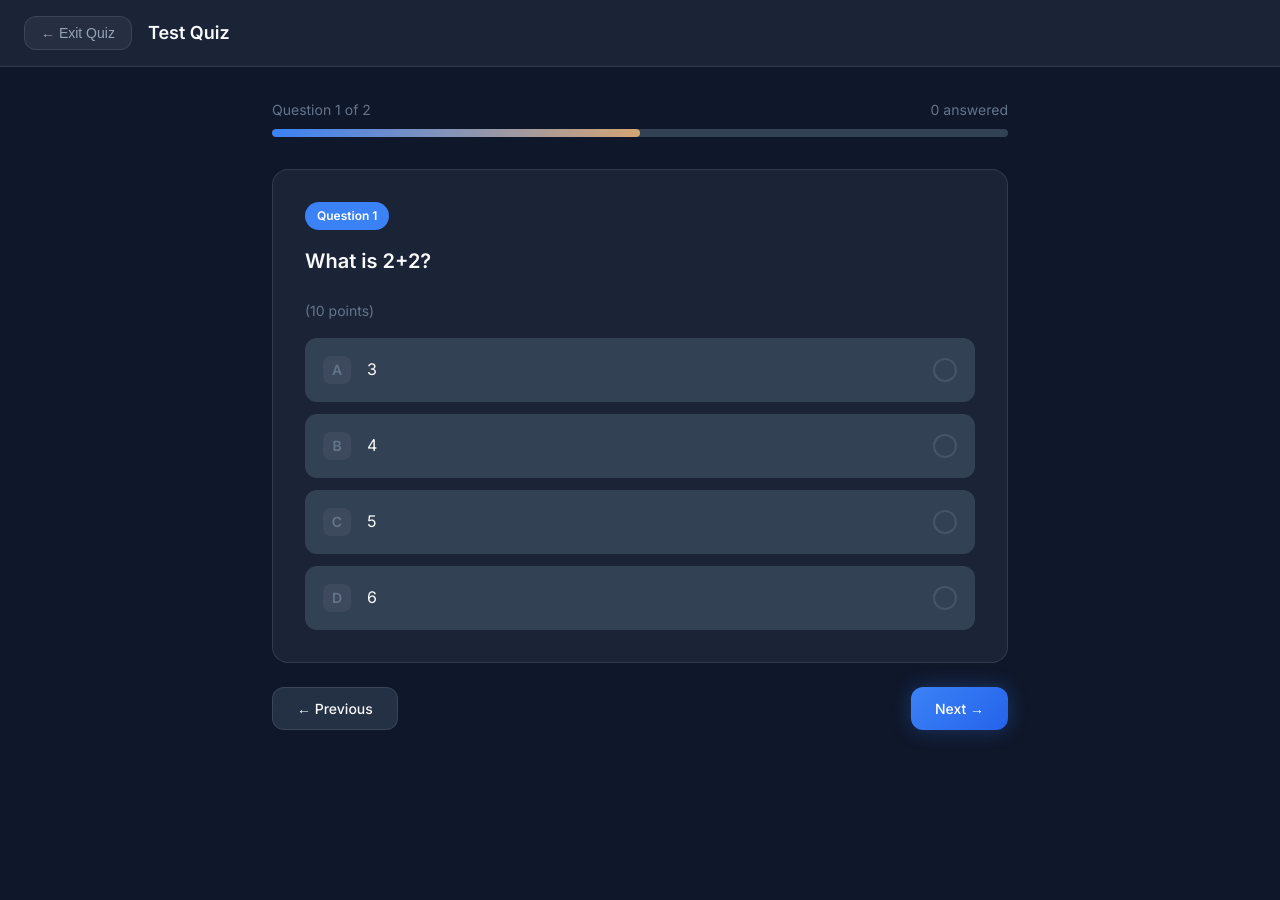
Test: QuizEngine › navigates to next question
// Select answer
Click the text "4": (640, 446) [305, 414, 975, 478]
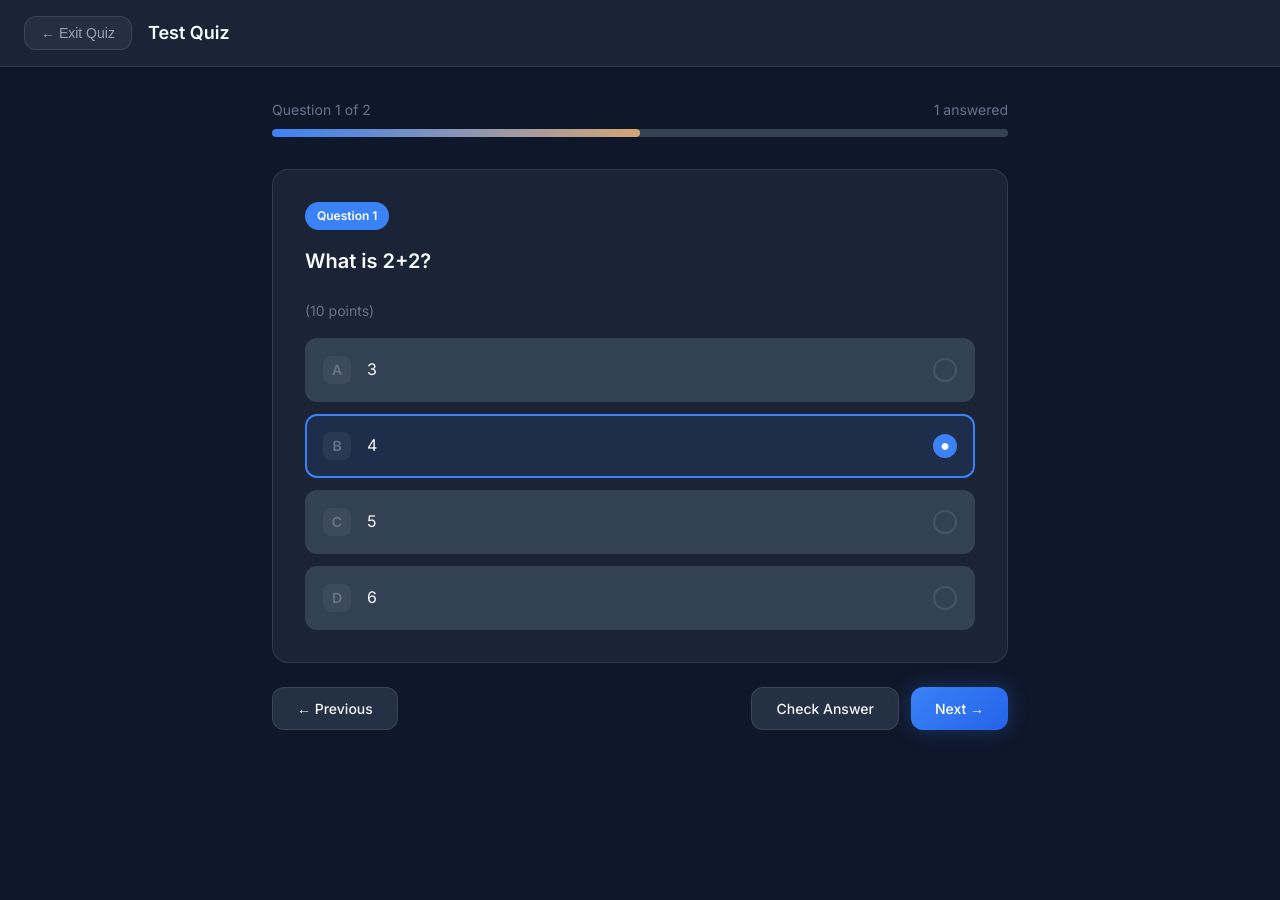
// Click next
Click the button "Next →": (959, 708) [911, 687, 1008, 730]
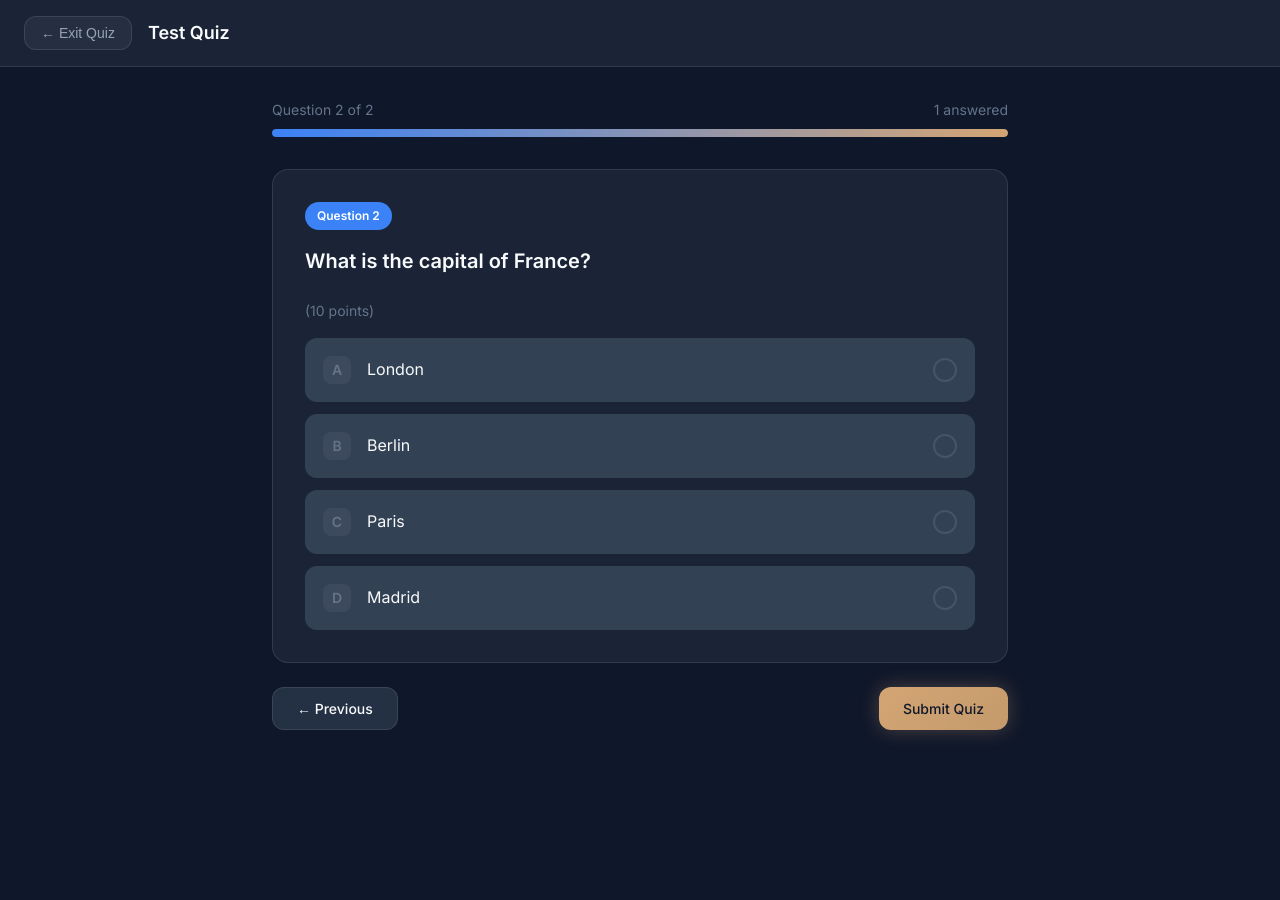
Expected: the text "Question 2" is shown, [305, 202, 392, 230]
Expected: the text "What is the capital of France?" is shown, [305, 249, 591, 273]
